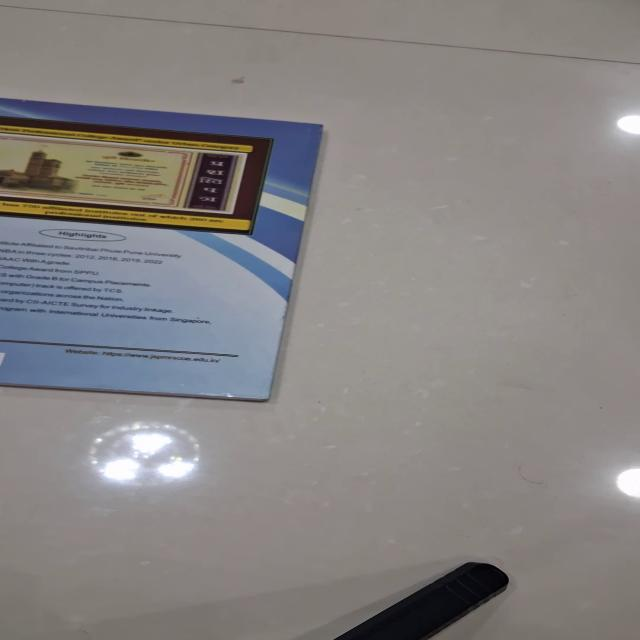paper: (1, 100, 323, 402)
